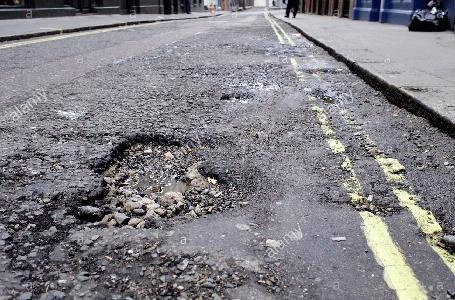pothole: (64, 128, 252, 229), (219, 91, 251, 101)
